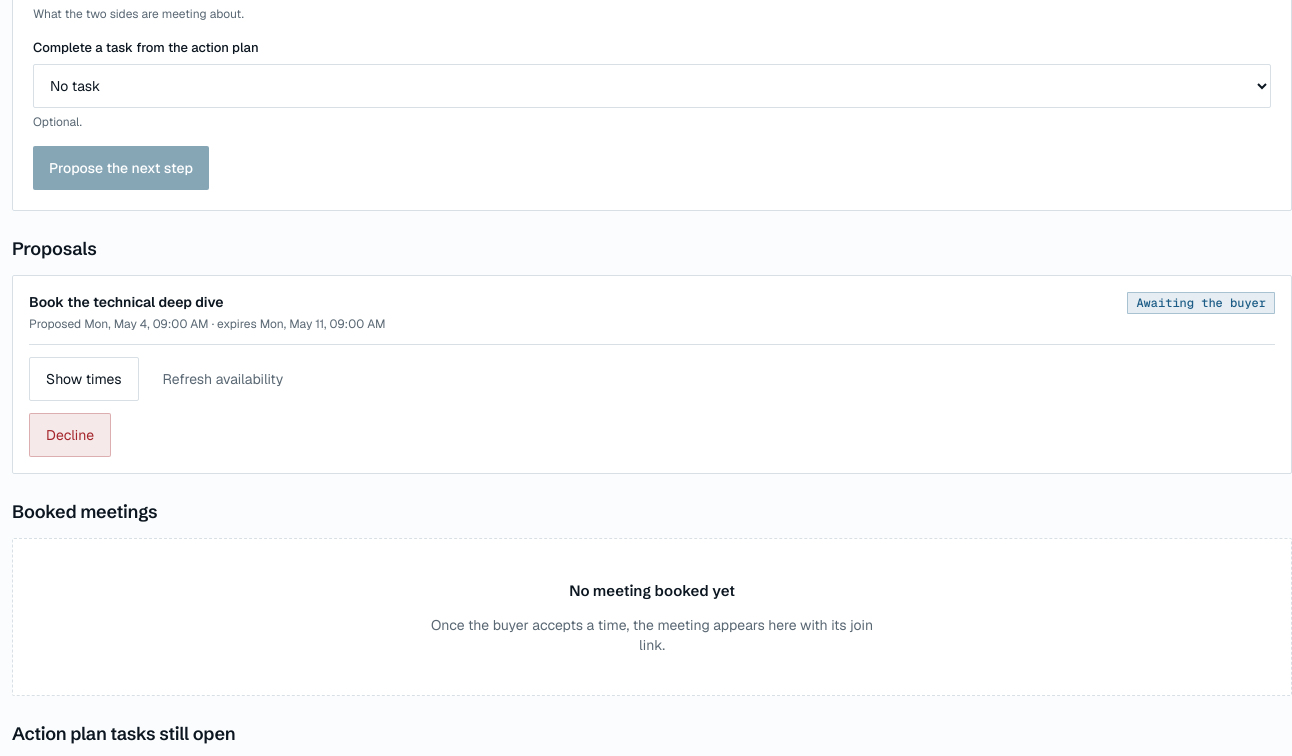
the next-steps board › turns a refusal token into a sentence the buyer can act on
This screenshot has width=1292, height=756.
(page scrolled)
Expected: the text "Book the technical deep dive" is shown, left=29, top=294, right=224, bottom=312
Step 1. Click the button "Show times" → [84, 380], box left=29, top=358, right=139, bottom=402
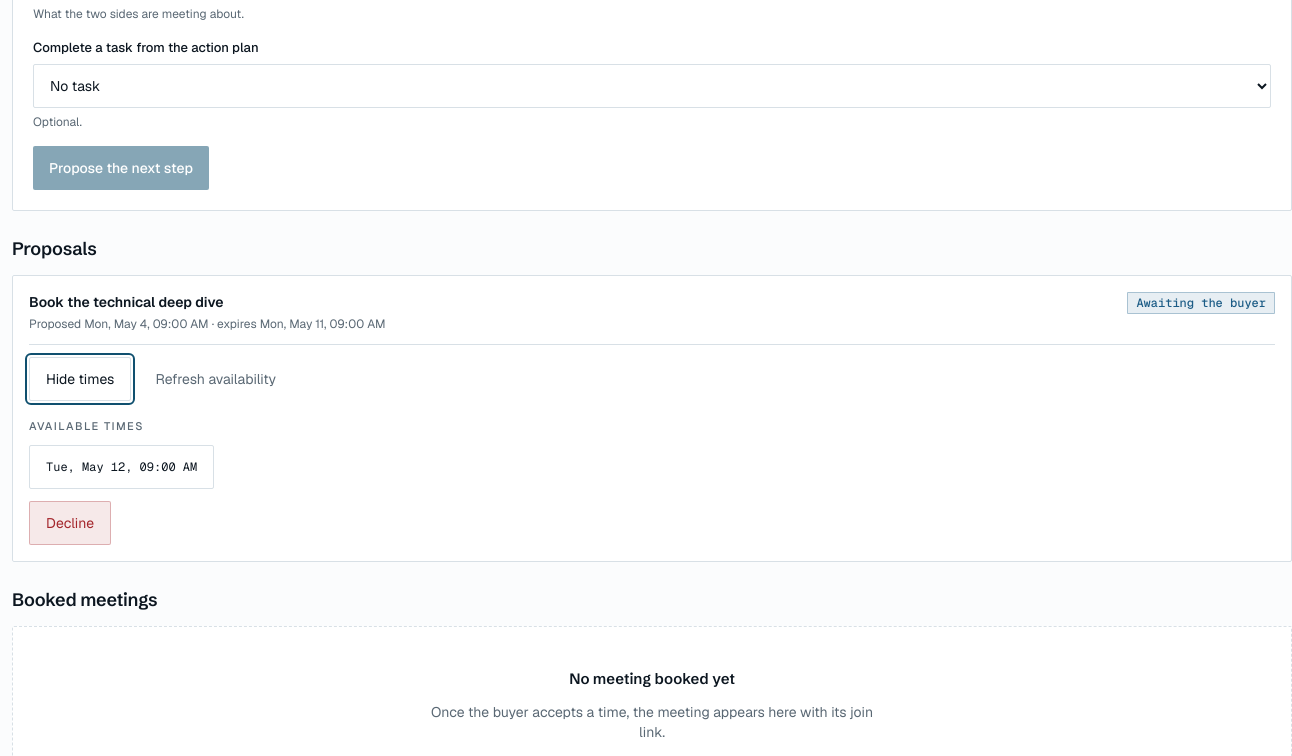
Step 2. Click the button "Tue, May 12, 09:00 AM" → [122, 467], box left=29, top=445, right=214, bottom=489
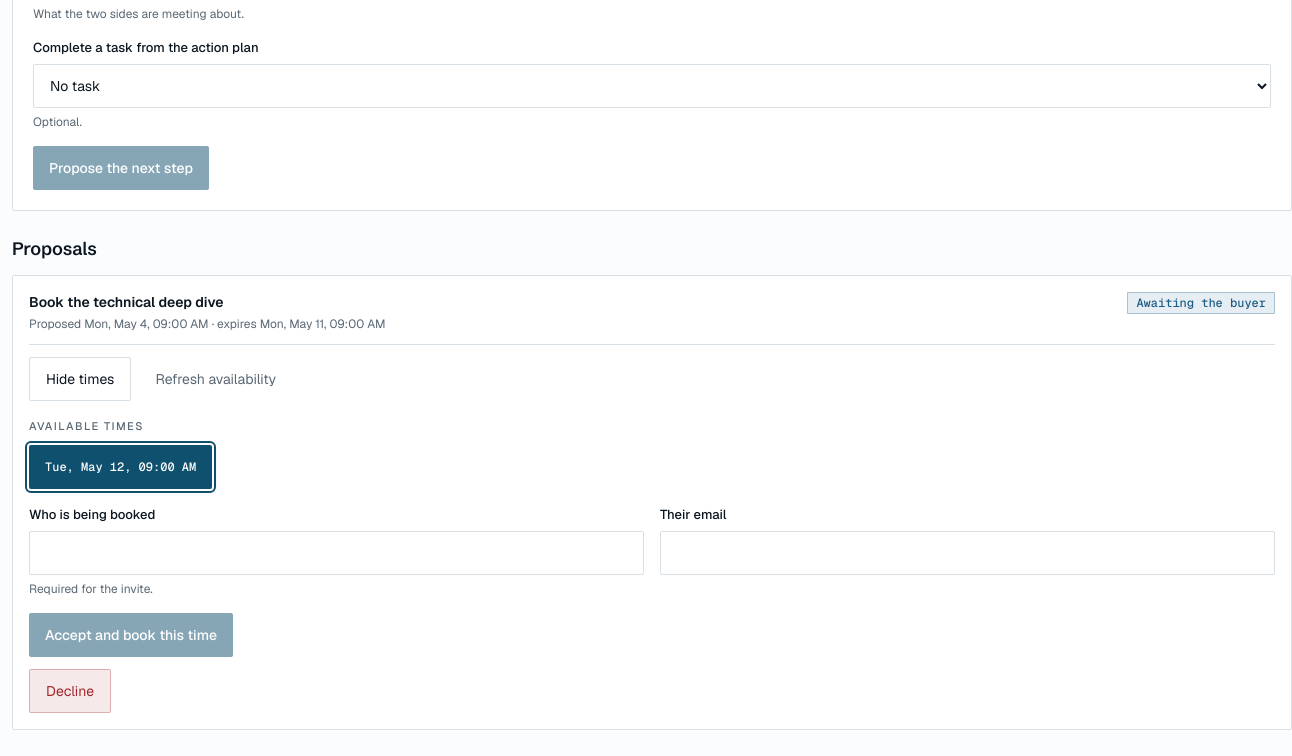
Step 3. Type "Ines" into the field labelled "Who is being booked" → [336, 553], box left=29, top=531, right=644, bottom=575
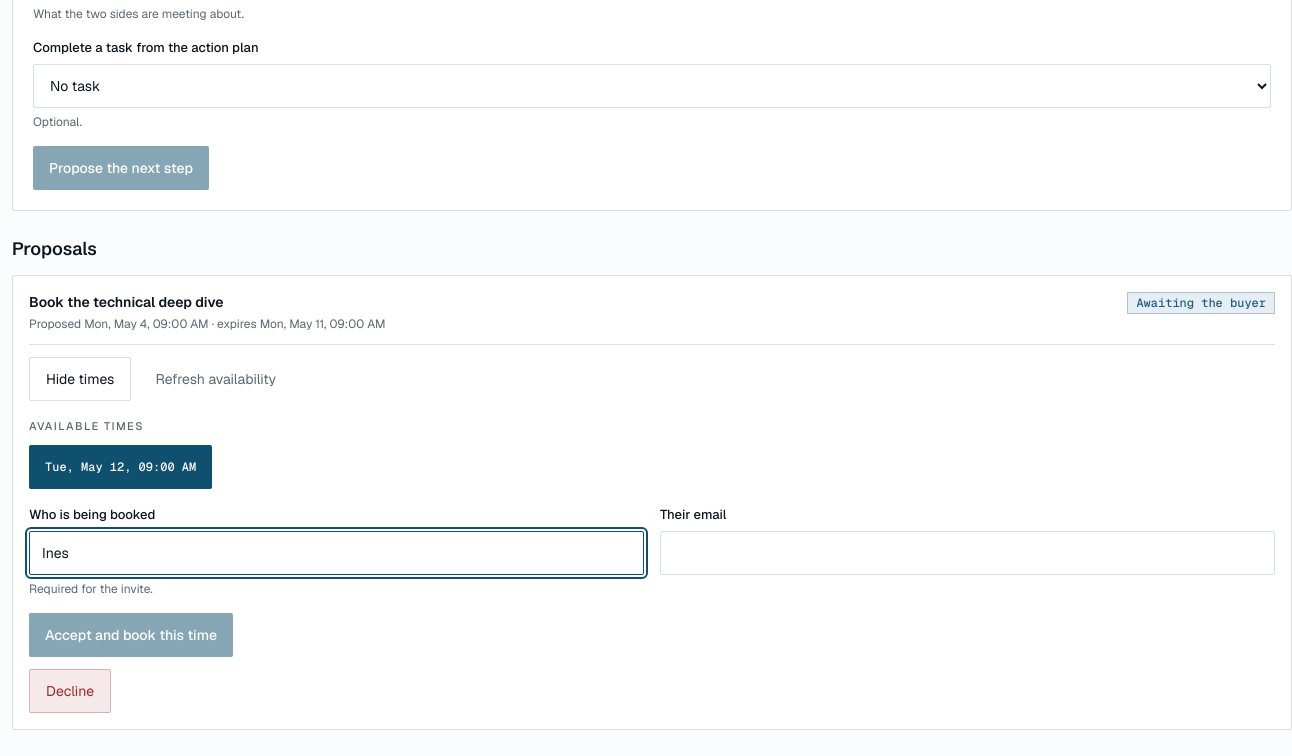
Step 4. Type "ines@example.com" into the field labelled "Their email" → [968, 553], box left=660, top=531, right=1275, bottom=575
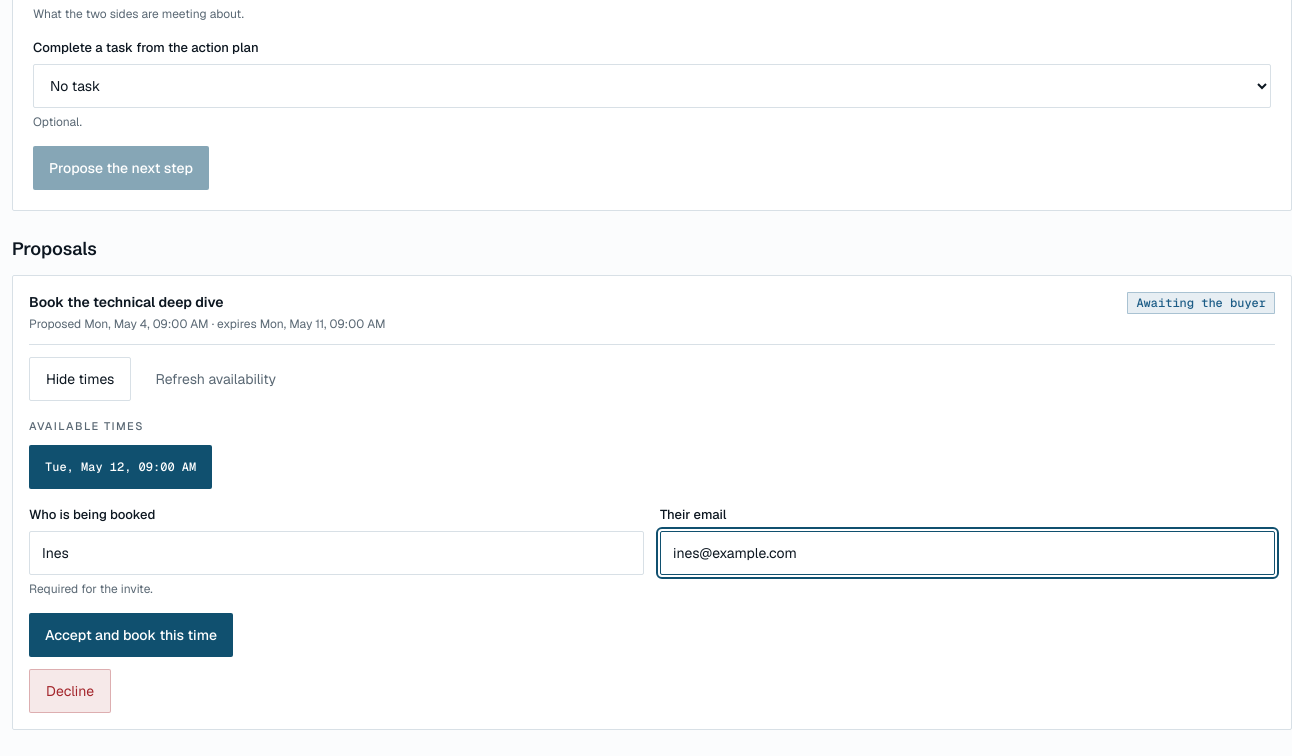
Step 5. Click the button "Accept and book this time" → [131, 635], box left=29, top=613, right=233, bottom=657
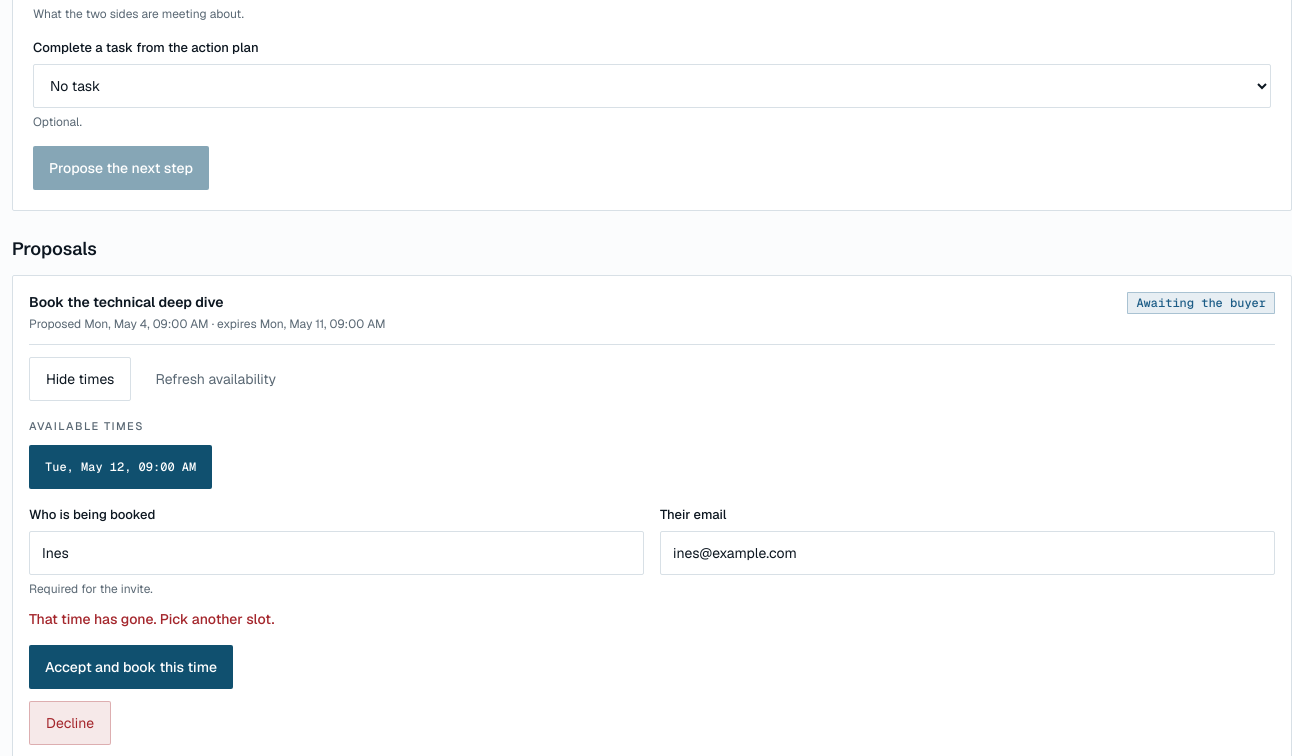
Now the text "That time has gone. Pick another slot." is shown, box left=29, top=610, right=274, bottom=628
